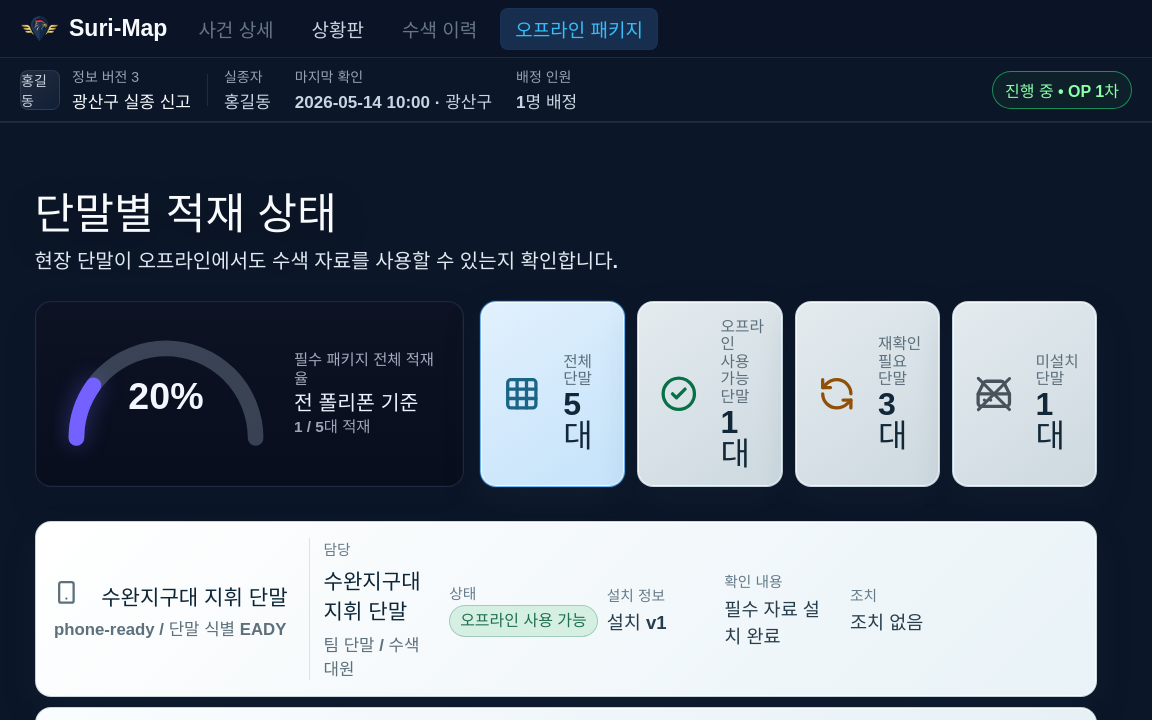
Test case: OfflinePackageStatusPage filters › summary buttons filter device status rows
expect the text "광산구 실종 신고" is shown: met, box [72,88,191,113]
Click the button "재확인 필요 단말 3대".
click(867, 394)  # box [795,301,940,486]
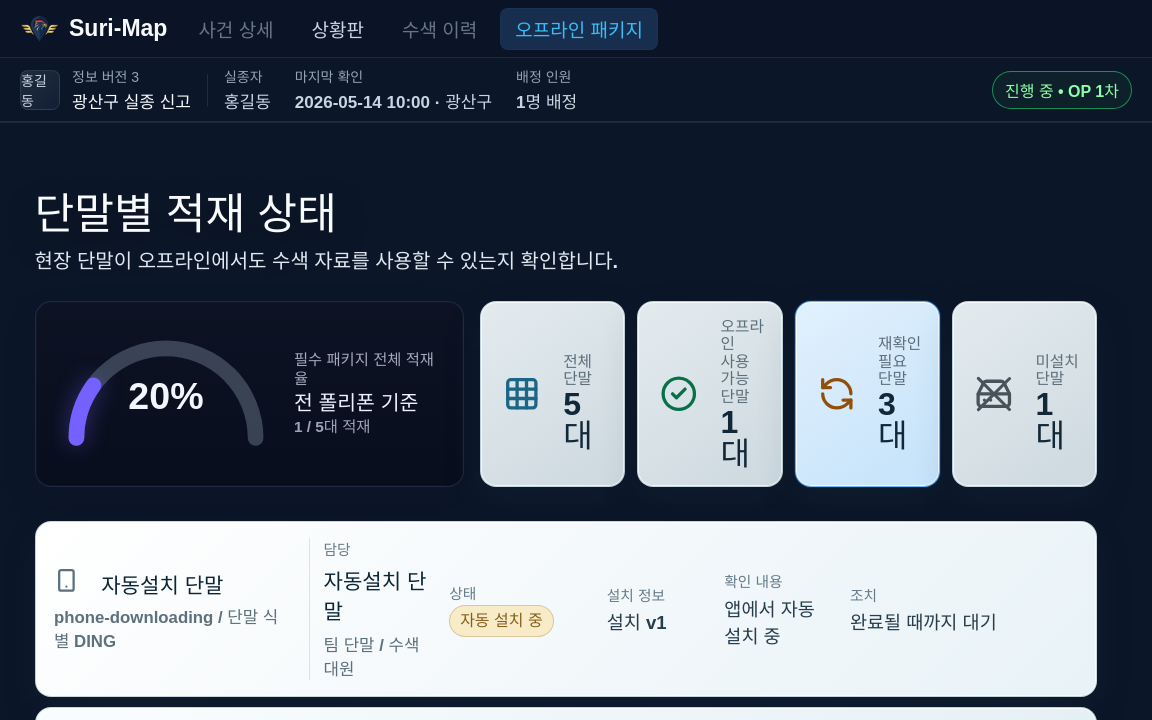
expect the text "자동 설치 중" is shown: met, box [449,605,554,637]
Click the button "미설치 단말 1대".
click(1025, 394)  # box [952,301,1097,486]
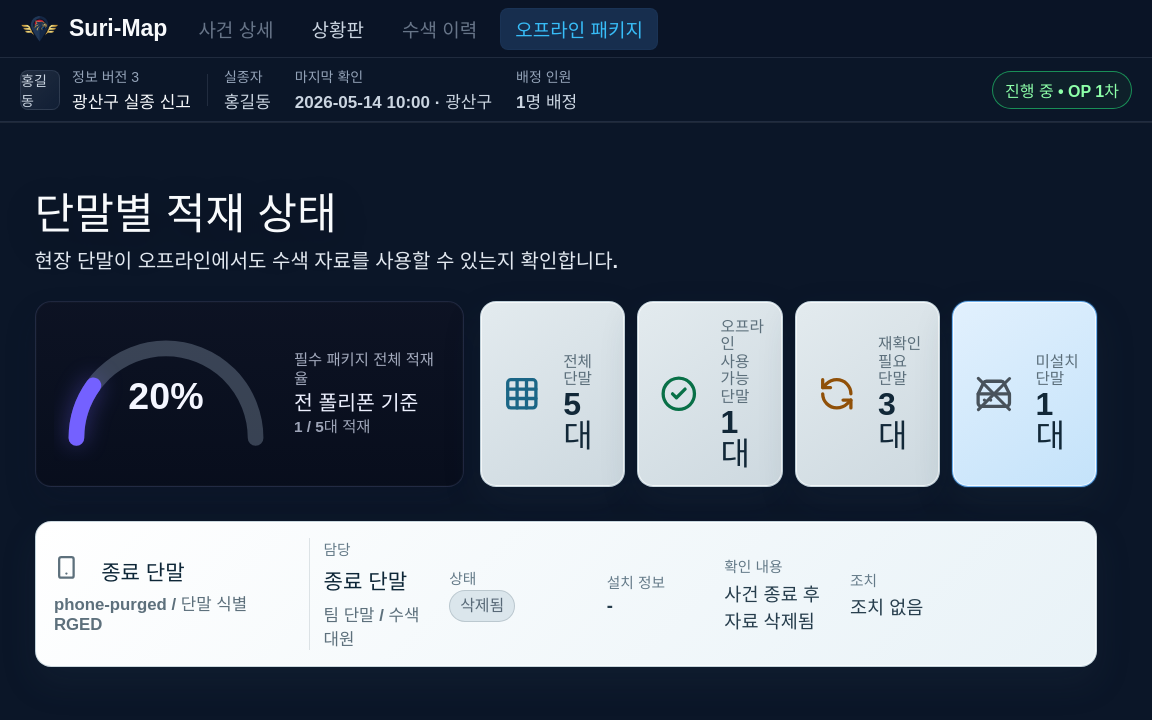
expect the 1st text "종료 단말" is shown: met, box [101,556,185,586]
expect the text "삭제됨" is shown: met, box [449,590,515,622]
expect the text "자동 설치 중" is not shown: met
Click the button "오프라인 사용 가능 단말 1대".
click(710, 394)  # box [637,301,783,486]
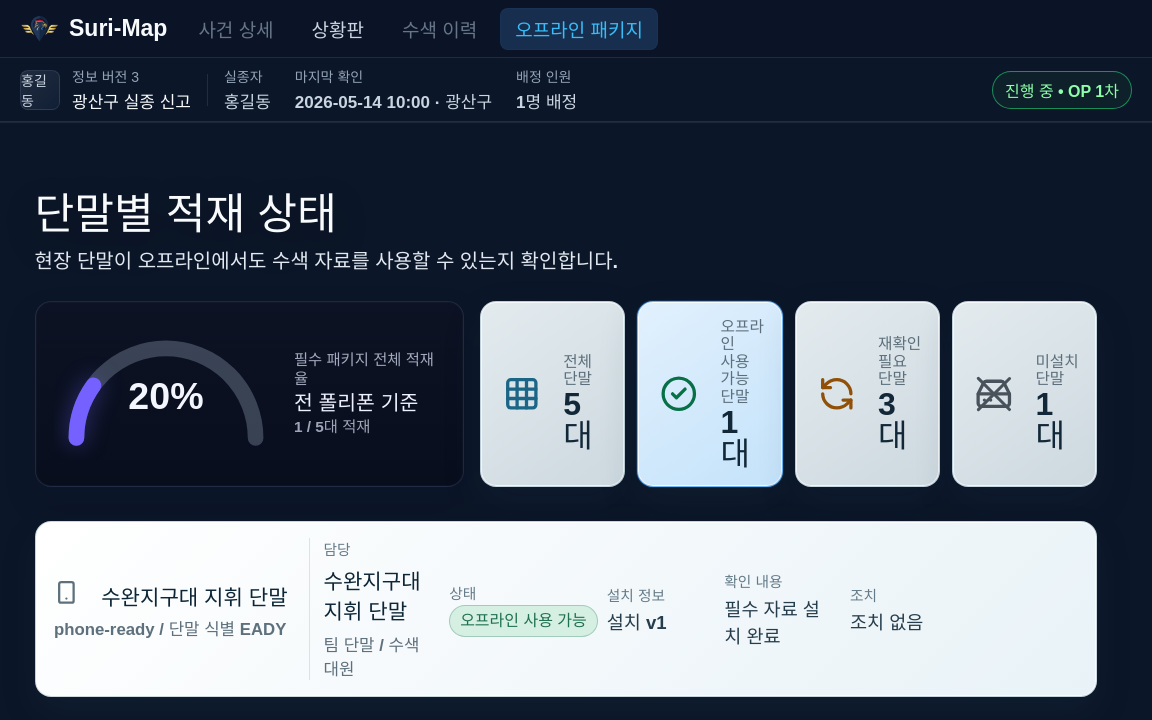
expect the 1st text "수완지구대 지휘 단말" is shown: met, box [101,581,288,611]
expect the text "필수 자료 설치 완료" is shown: met, box [724,538,836,680]
